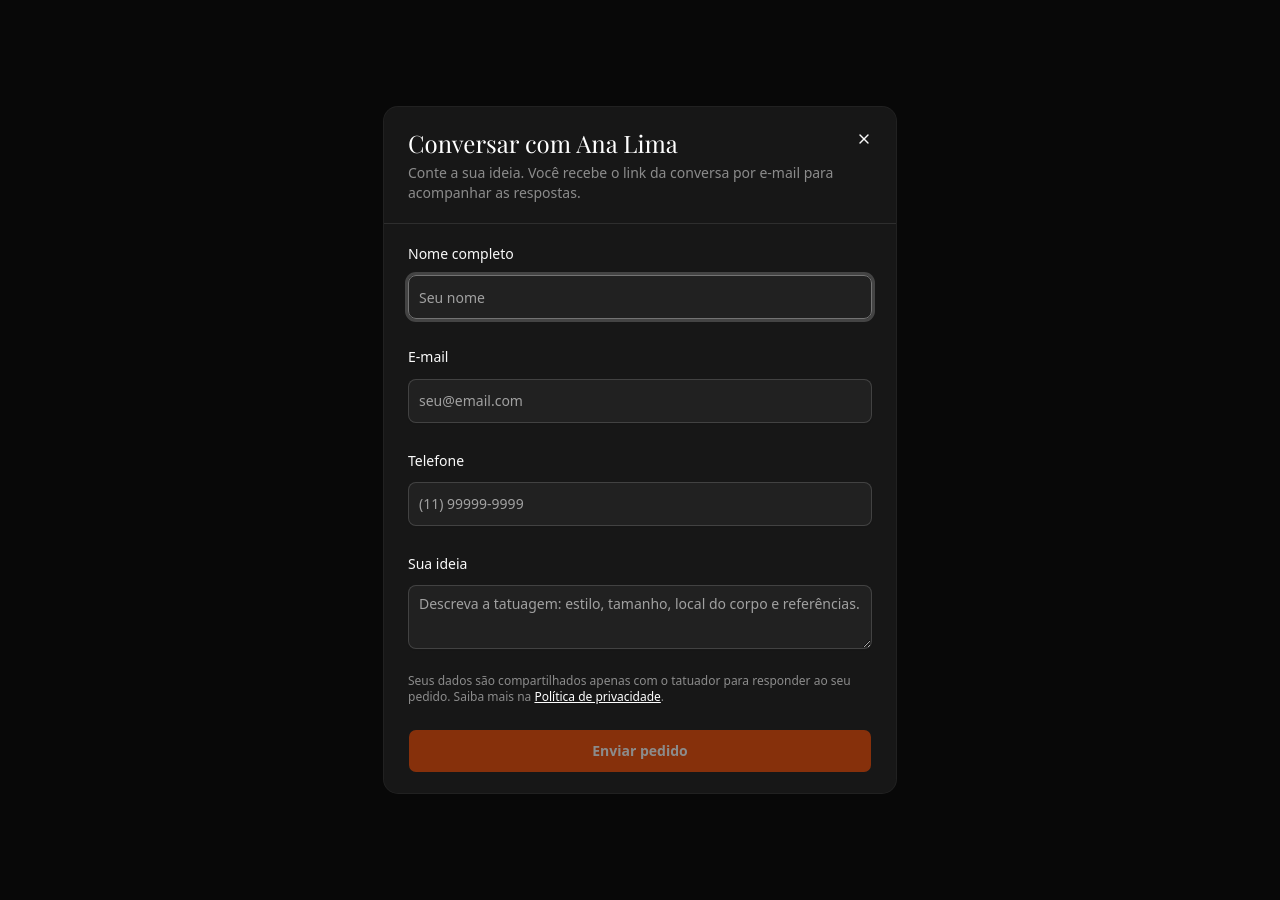
BookingRequestDialog › formats the phone while typing
This screenshot has width=1280, height=900.
Type "11999999999" into the field labelled "Telefone" at (640, 504), box [408,482,872,526]
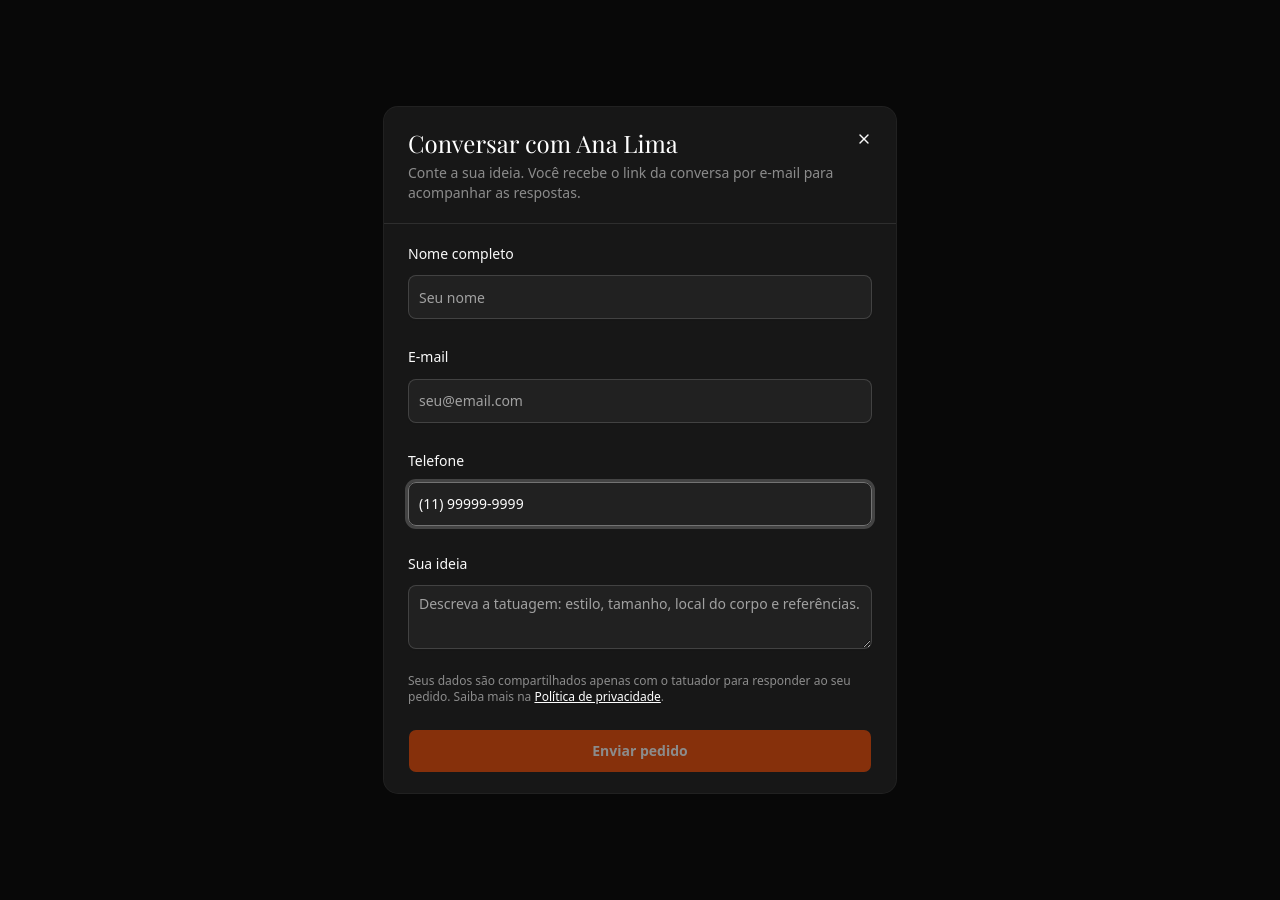
Check: the field labelled "Telefone" holds "(11) 99999-9999", box [408,482,872,526]
